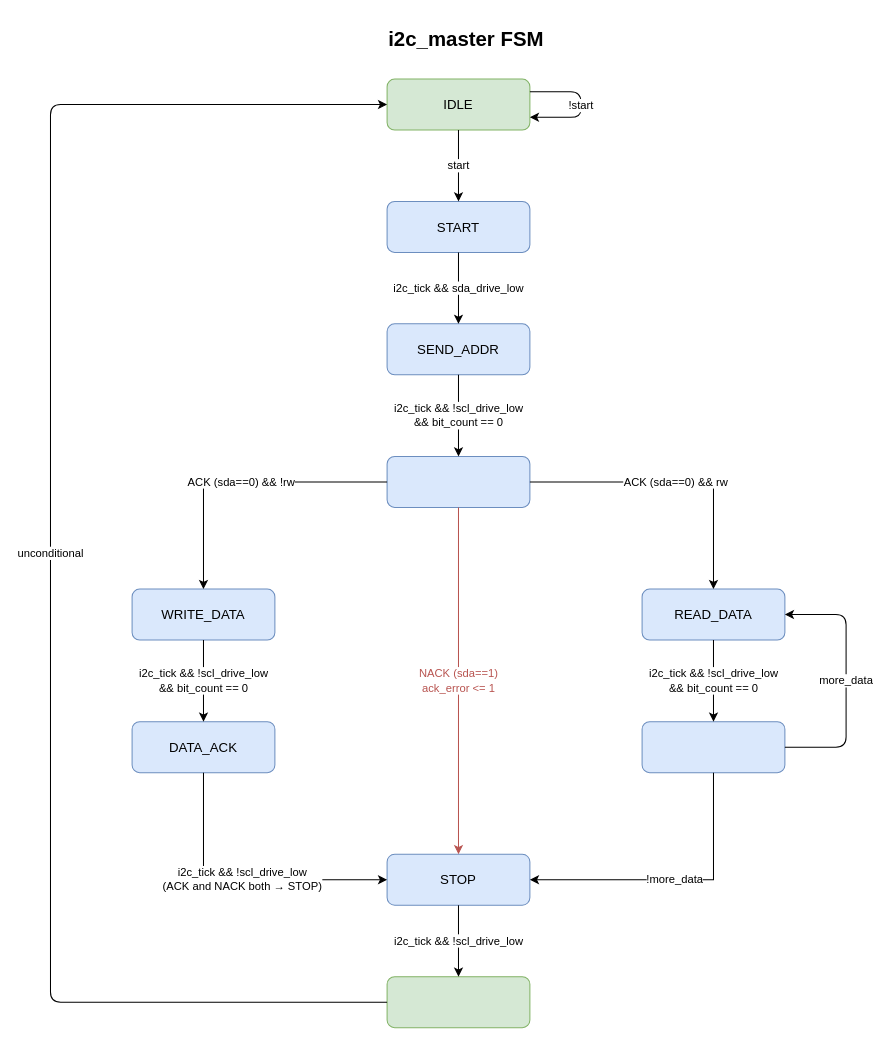
Image size: 890x1046. Some labels were removed from this diagram. Here are the shapes that lost their labels. From the top down, the centre of each, then its label:
At [458,481]: "ADDR_ACK".
At [713,747]: "MASTER_ACK".
At [458,1002]: "DONE".
